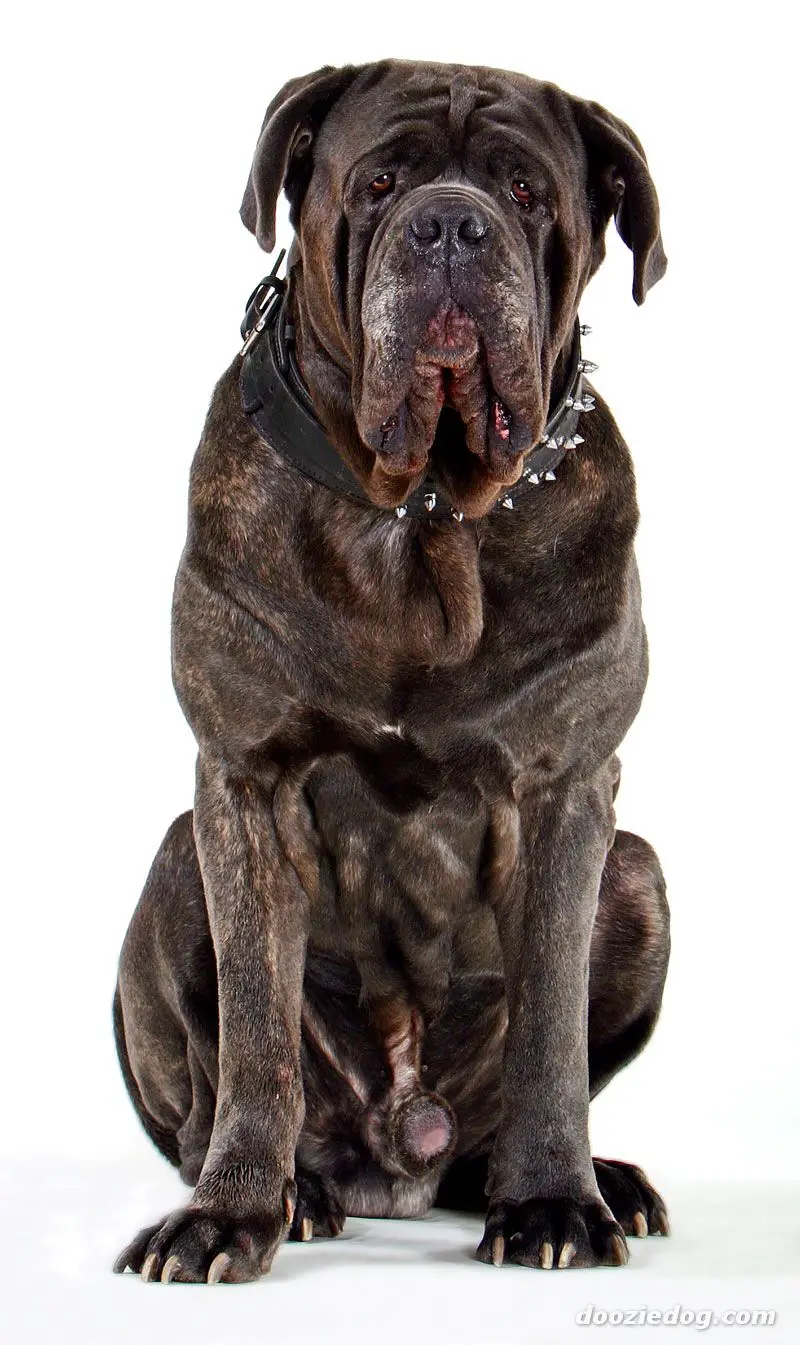neapolitan_mastiff: (110, 55, 674, 1288)
